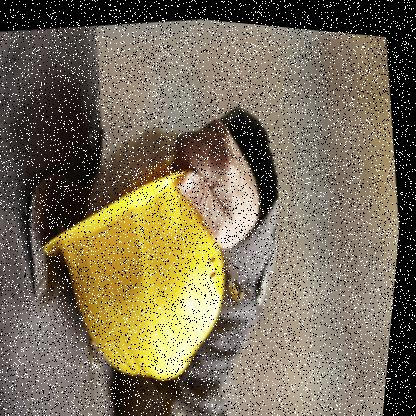helmet: (24, 145, 264, 401)
